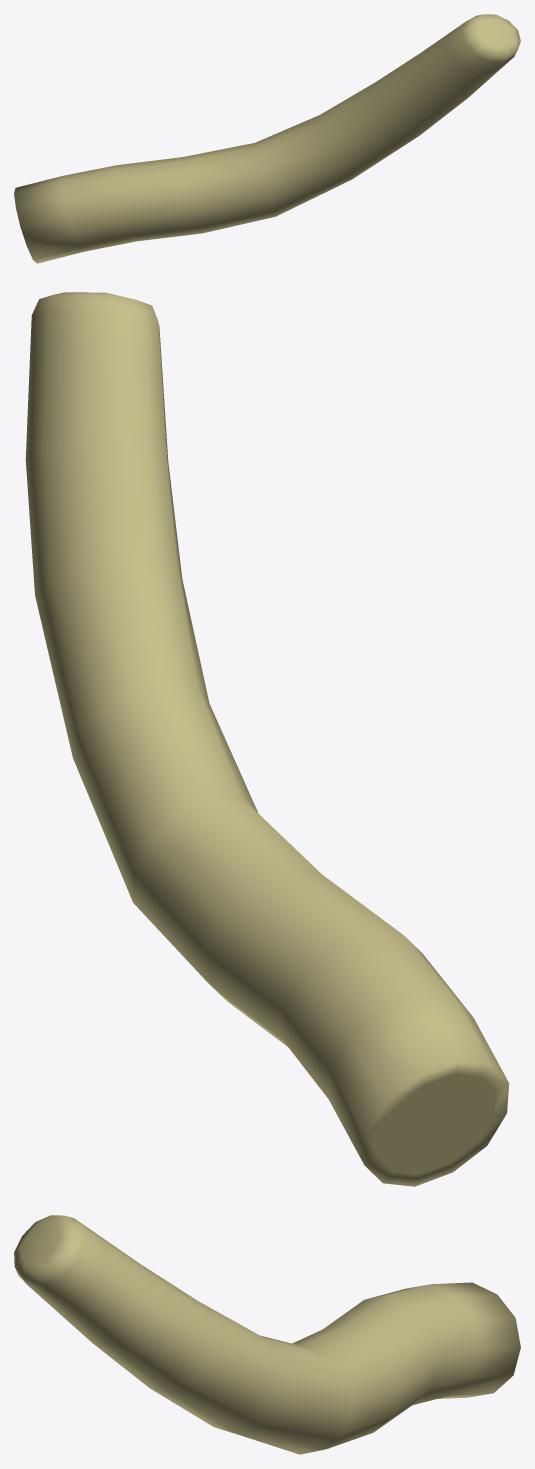
File: Nerves_L5.FBX
The picture shows the model from 3 angles, top to bottom: view 1: azimuth 30°, elevation 25°; view 2: azimuth 150°, elevation 25°; view 3: azimuth 270°, elevation 25°; orthographic projection. The views are drawn at different scales.
Parts seen in each view (by area): view 1: Nerves_L5; view 2: Nerves_L5; view 3: Nerves_L5.
Part boxes in pixels (x1,y1,x2,y2): Nerves_L5: [14, 14, 520, 263]; Nerves_L5: [25, 292, 509, 1186]; Nerves_L5: [14, 1215, 520, 1454].
Size of the model in its own units: 0.00806 by 0.00569 by 0.00676.
